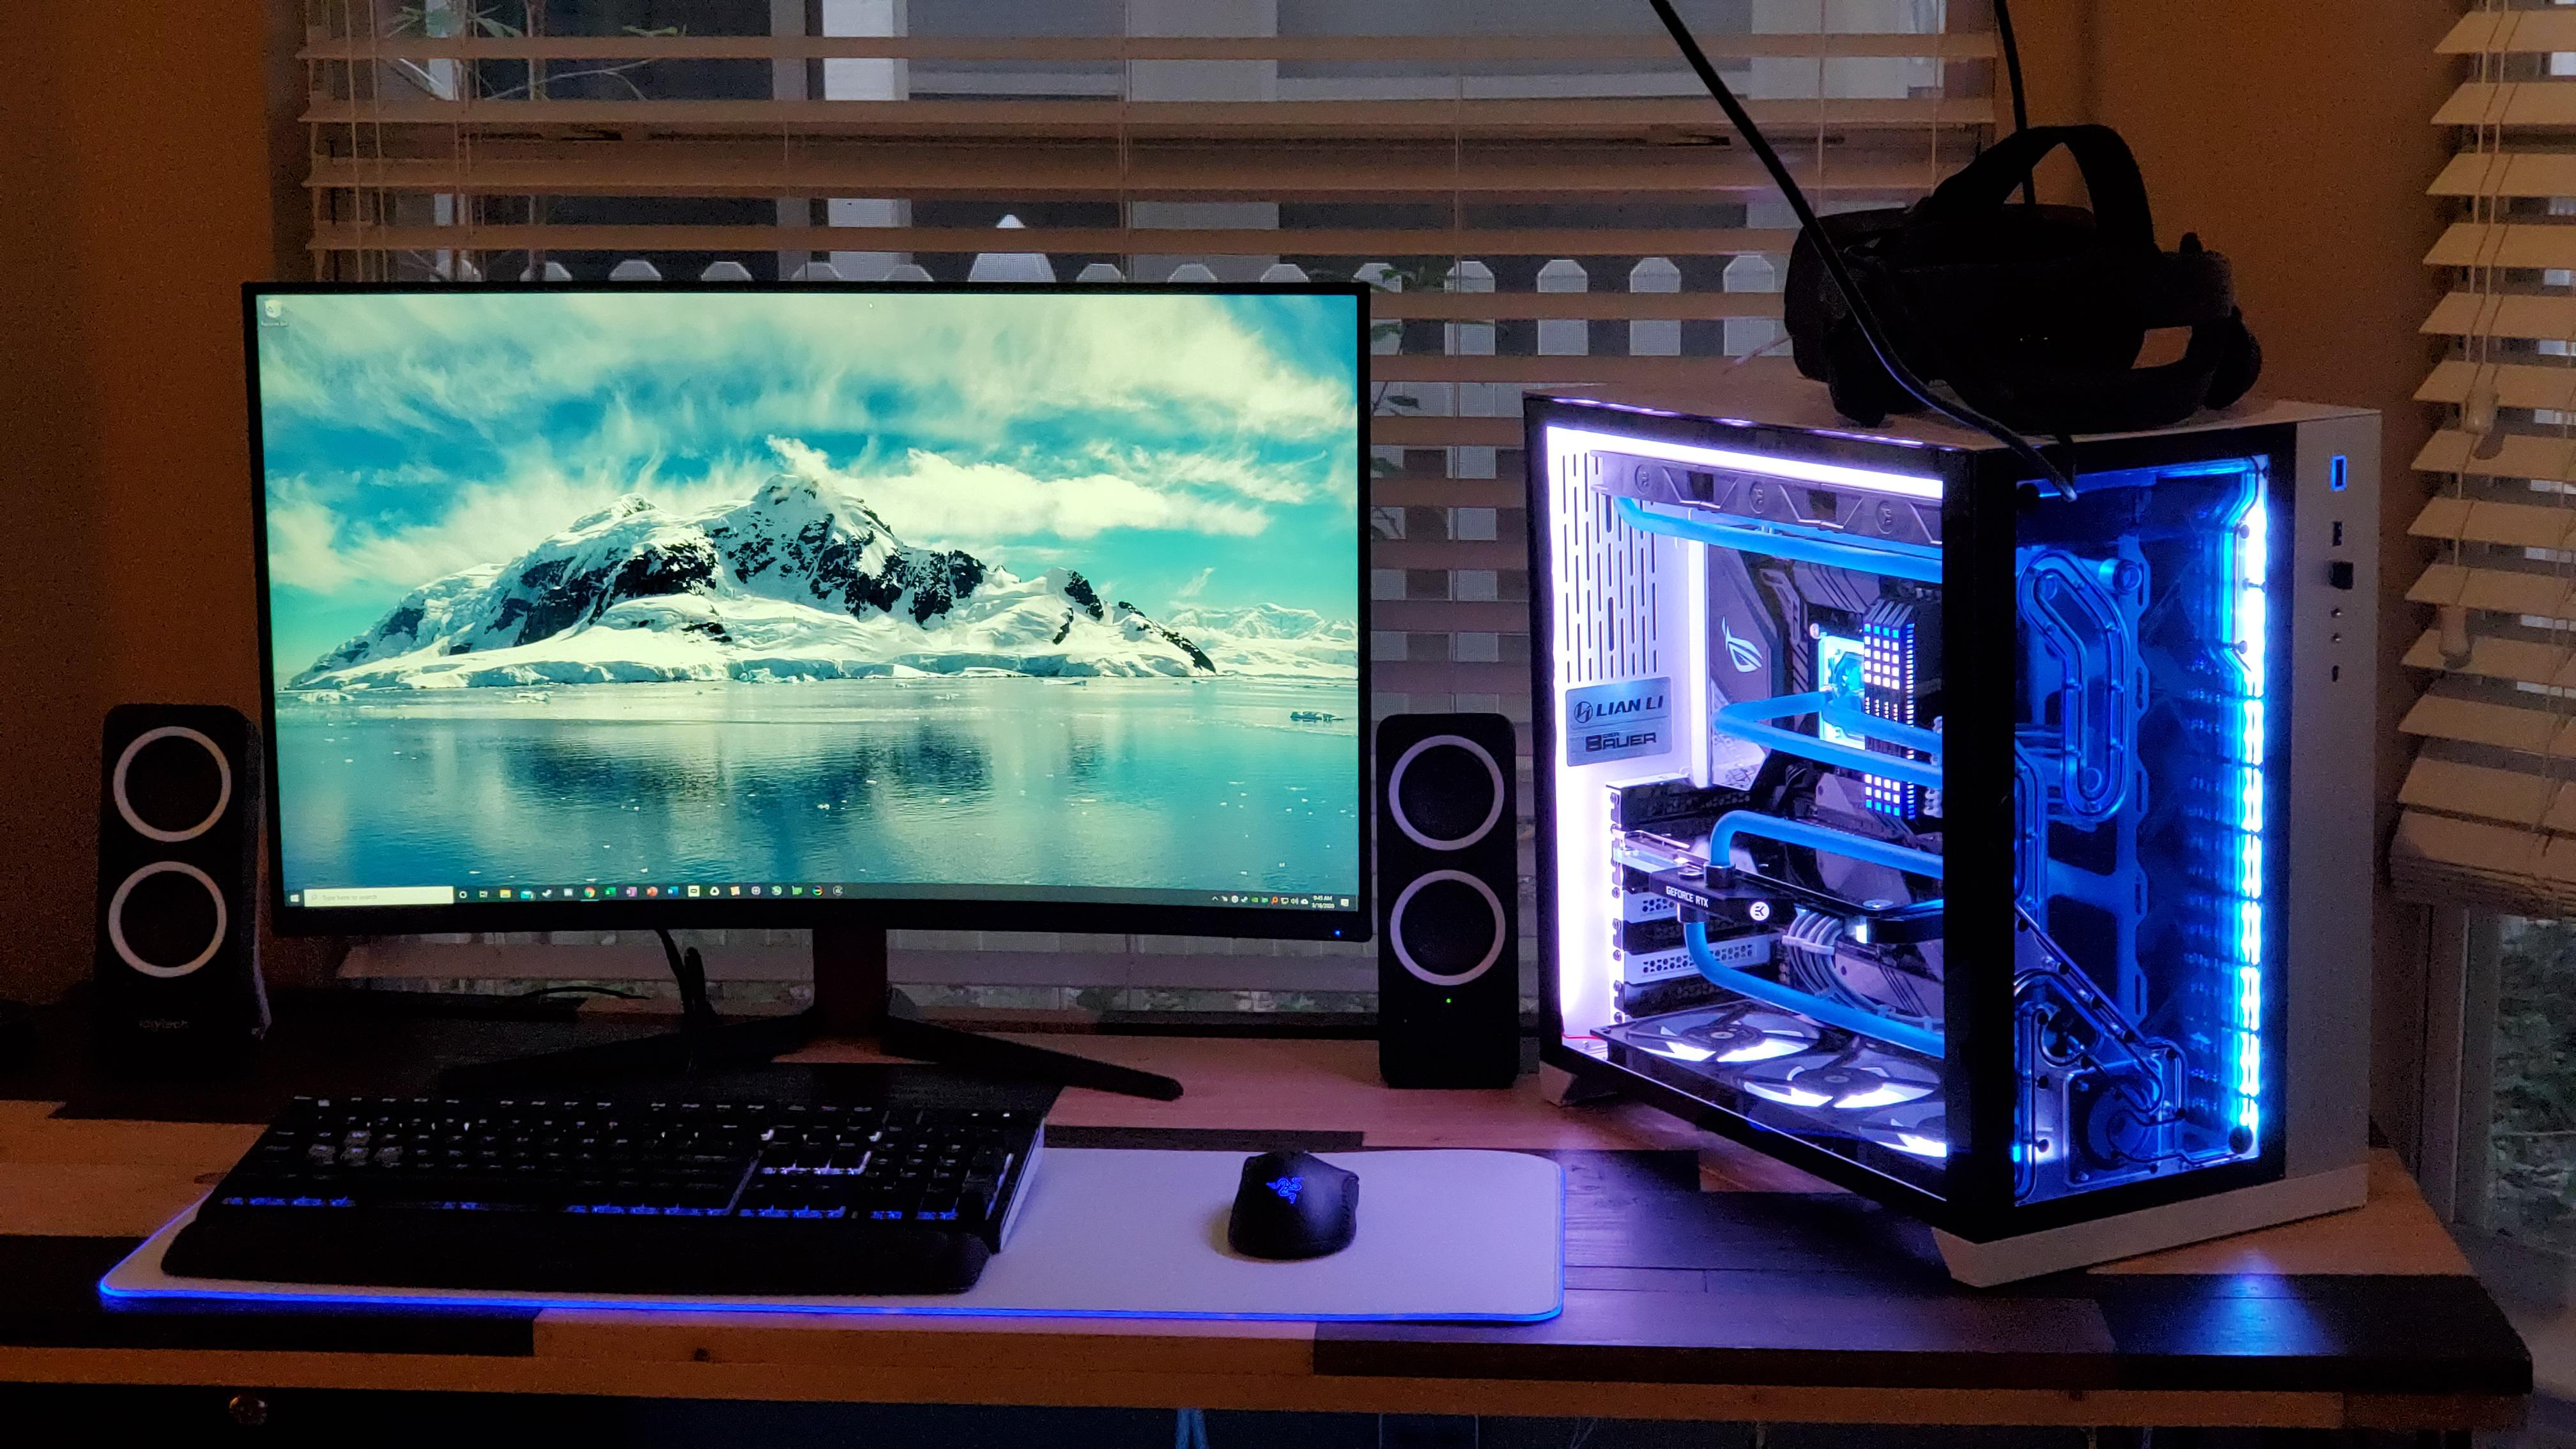Desk (Generic): (0, 998, 2532, 1449)
Desktop (Windows): (1525, 372, 2378, 1300)
External Speakers (Generic): (90, 701, 257, 1081), (1375, 713, 1518, 1088)
Keyboard (Gaming): (159, 1095, 1044, 1288)
Monitor (Landscape): (239, 276, 1376, 1120)
Mouse (Gaming): (1214, 1150, 1361, 1256)
Mousepad (Gaming): (103, 1148, 1566, 1327)
